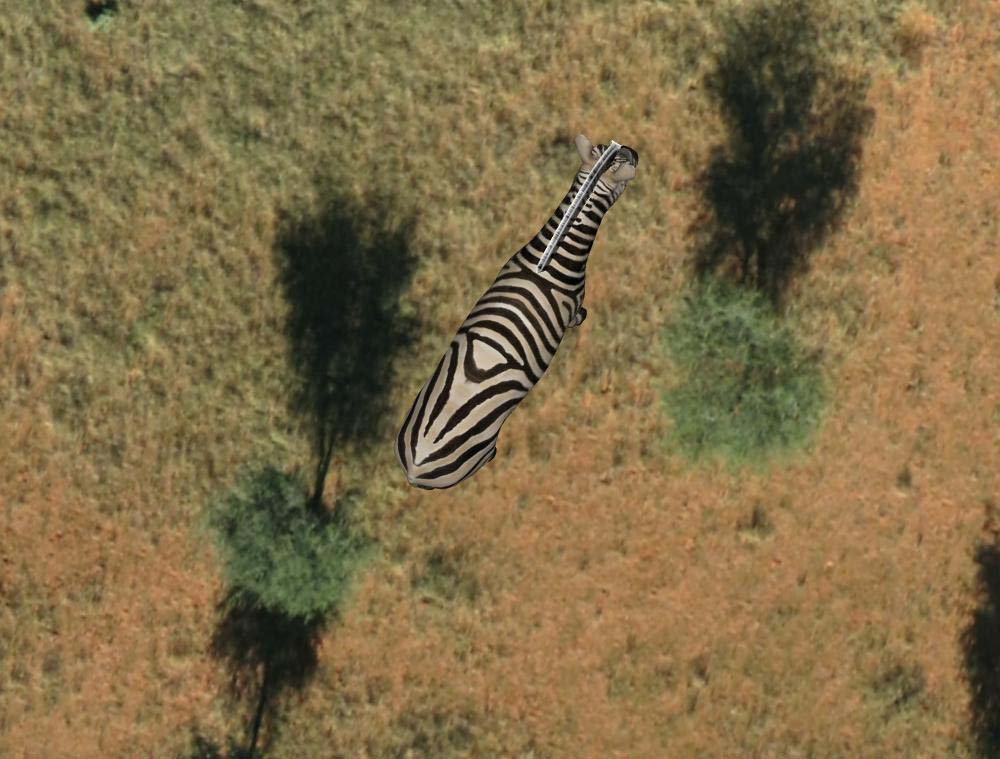zebra: (399, 129, 637, 492)
